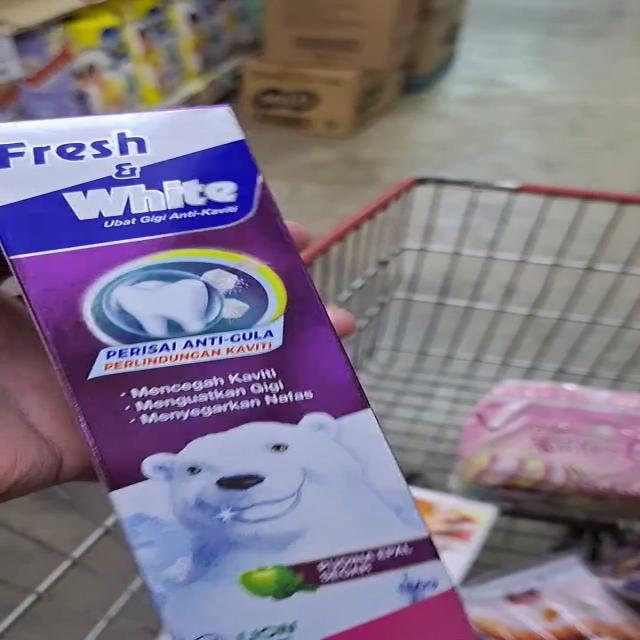Ubat Gigi: (34, 375, 486, 640), (0, 106, 373, 391)
